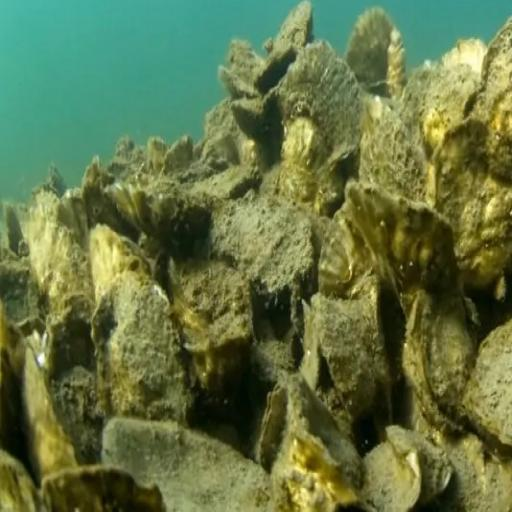Oyster-Closed: (104, 419, 290, 512), (351, 196, 474, 334), (90, 272, 188, 425), (280, 42, 363, 173), (207, 201, 313, 301), (19, 356, 78, 498), (417, 42, 491, 154), (170, 264, 260, 356), (310, 301, 376, 420), (423, 294, 478, 427), (358, 97, 427, 196), (108, 187, 221, 245), (1, 305, 35, 466), (318, 201, 370, 305), (471, 319, 512, 446), (44, 471, 168, 512), (478, 26, 512, 172), (91, 230, 151, 308), (351, 14, 398, 94), (25, 195, 61, 294), (263, 1, 320, 59), (285, 127, 325, 204), (1, 450, 40, 512)
Oyster-Open: (258, 55, 306, 116), (256, 381, 285, 472)
